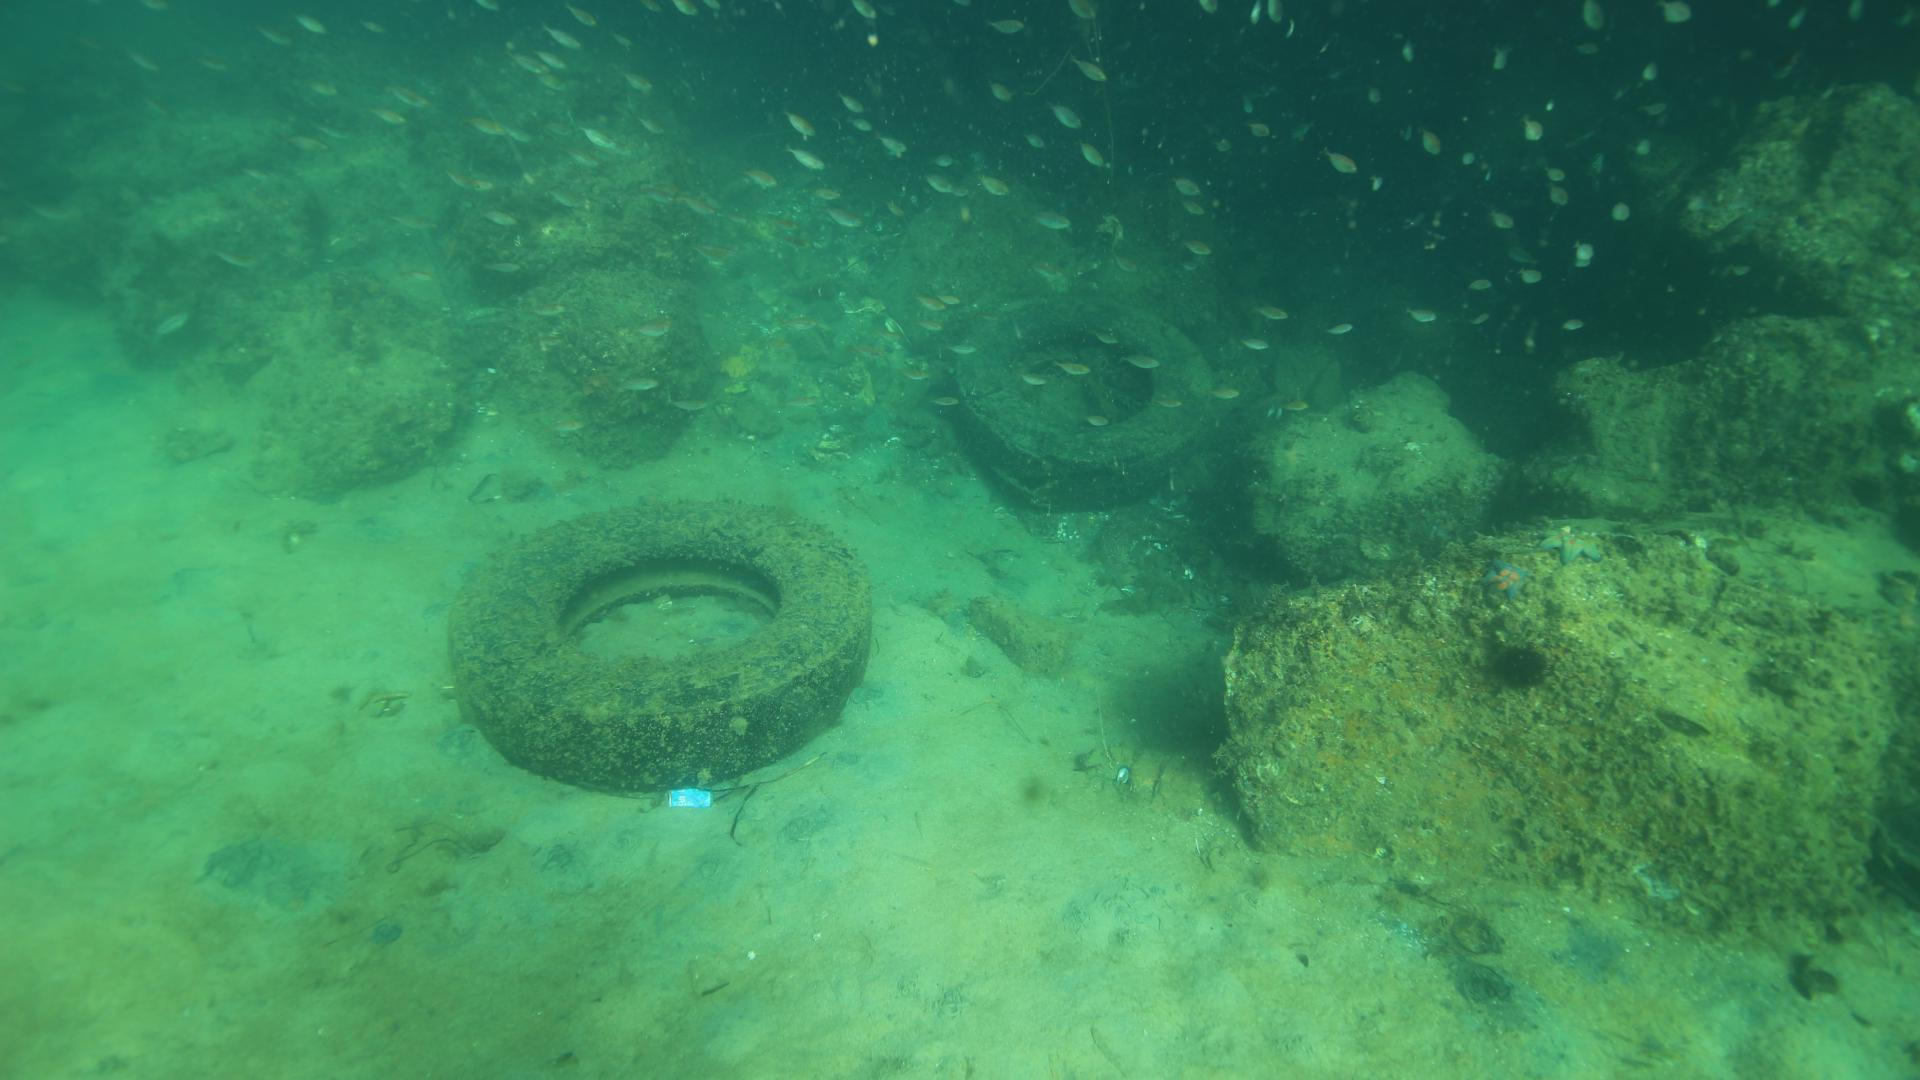tire: (443, 498, 885, 807), (943, 293, 1212, 498)
